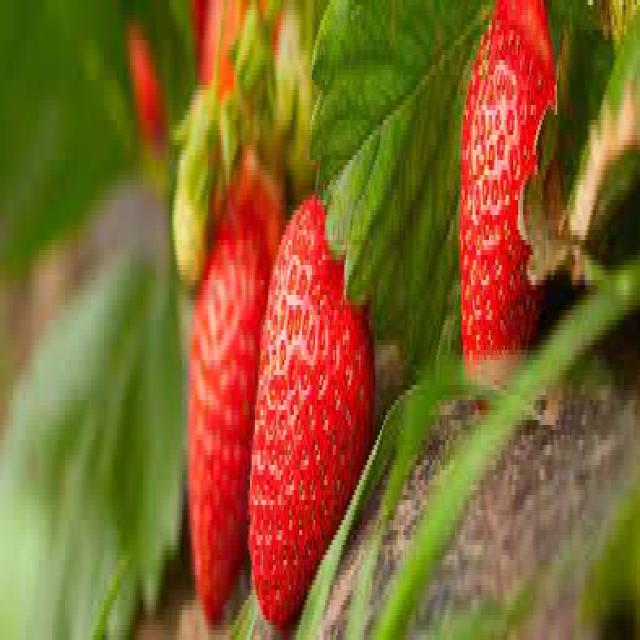strawberry: (248, 185, 377, 628), (448, 4, 566, 377)
